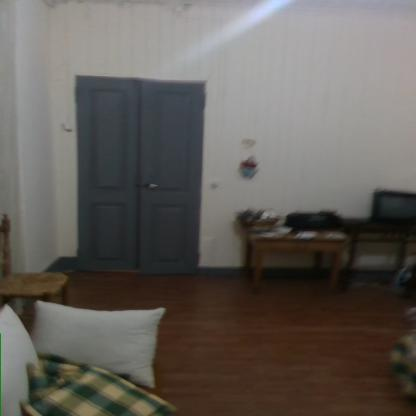closed: (66, 63, 219, 279)
